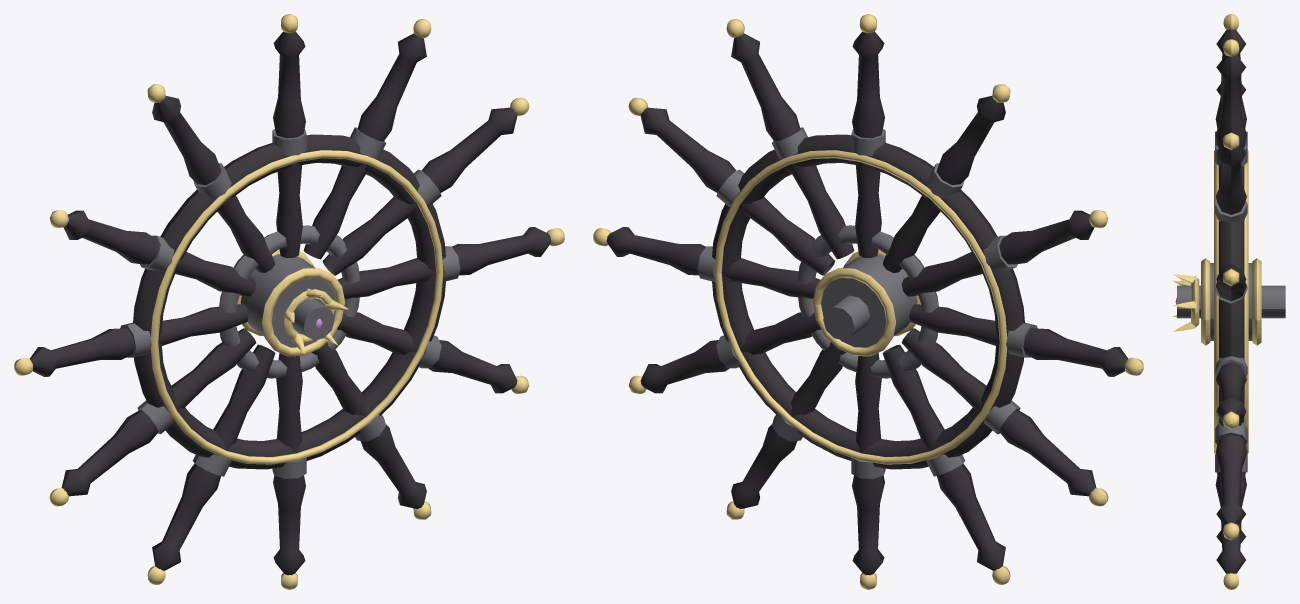
The model's file is steuerrad_krone.glb.
The picture shows the model from 3 angles, left to right: view 1: azimuth 30°, elevation 25°; view 2: azimuth 150°, elevation 25°; view 3: azimuth 270°, elevation 25°; orthographic projection. The views are drawn at different scales.
Visible parts, largest first — view 1: G_steuerrad_krone; view 2: G_steuerrad_krone; view 3: G_steuerrad_krone.
Boxes of the visible parts, x1=… form: G_steuerrad_krone: x1=14, y1=14, x2=564, y2=589; G_steuerrad_krone: x1=593, y1=14, x2=1143, y2=589; G_steuerrad_krone: x1=1172, y1=14, x2=1285, y2=589.
Size of the model in its own units: 1.92 by 1.92 by 0.3755.
